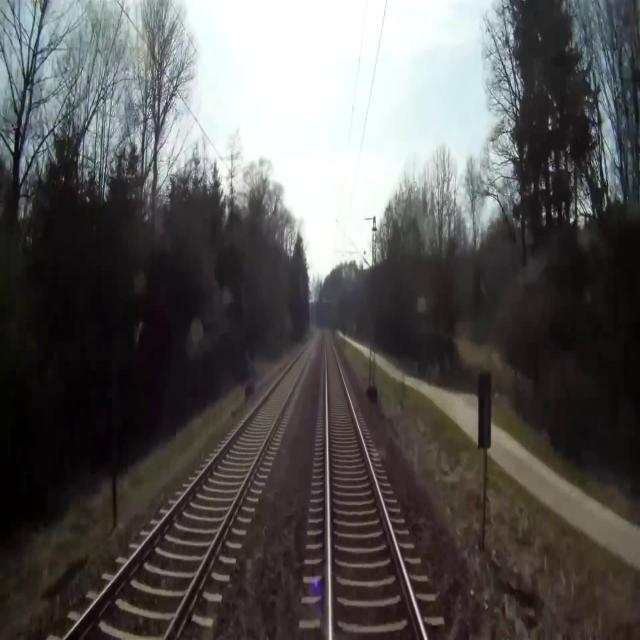rail-track: (68, 337, 316, 639), (326, 334, 423, 639)
